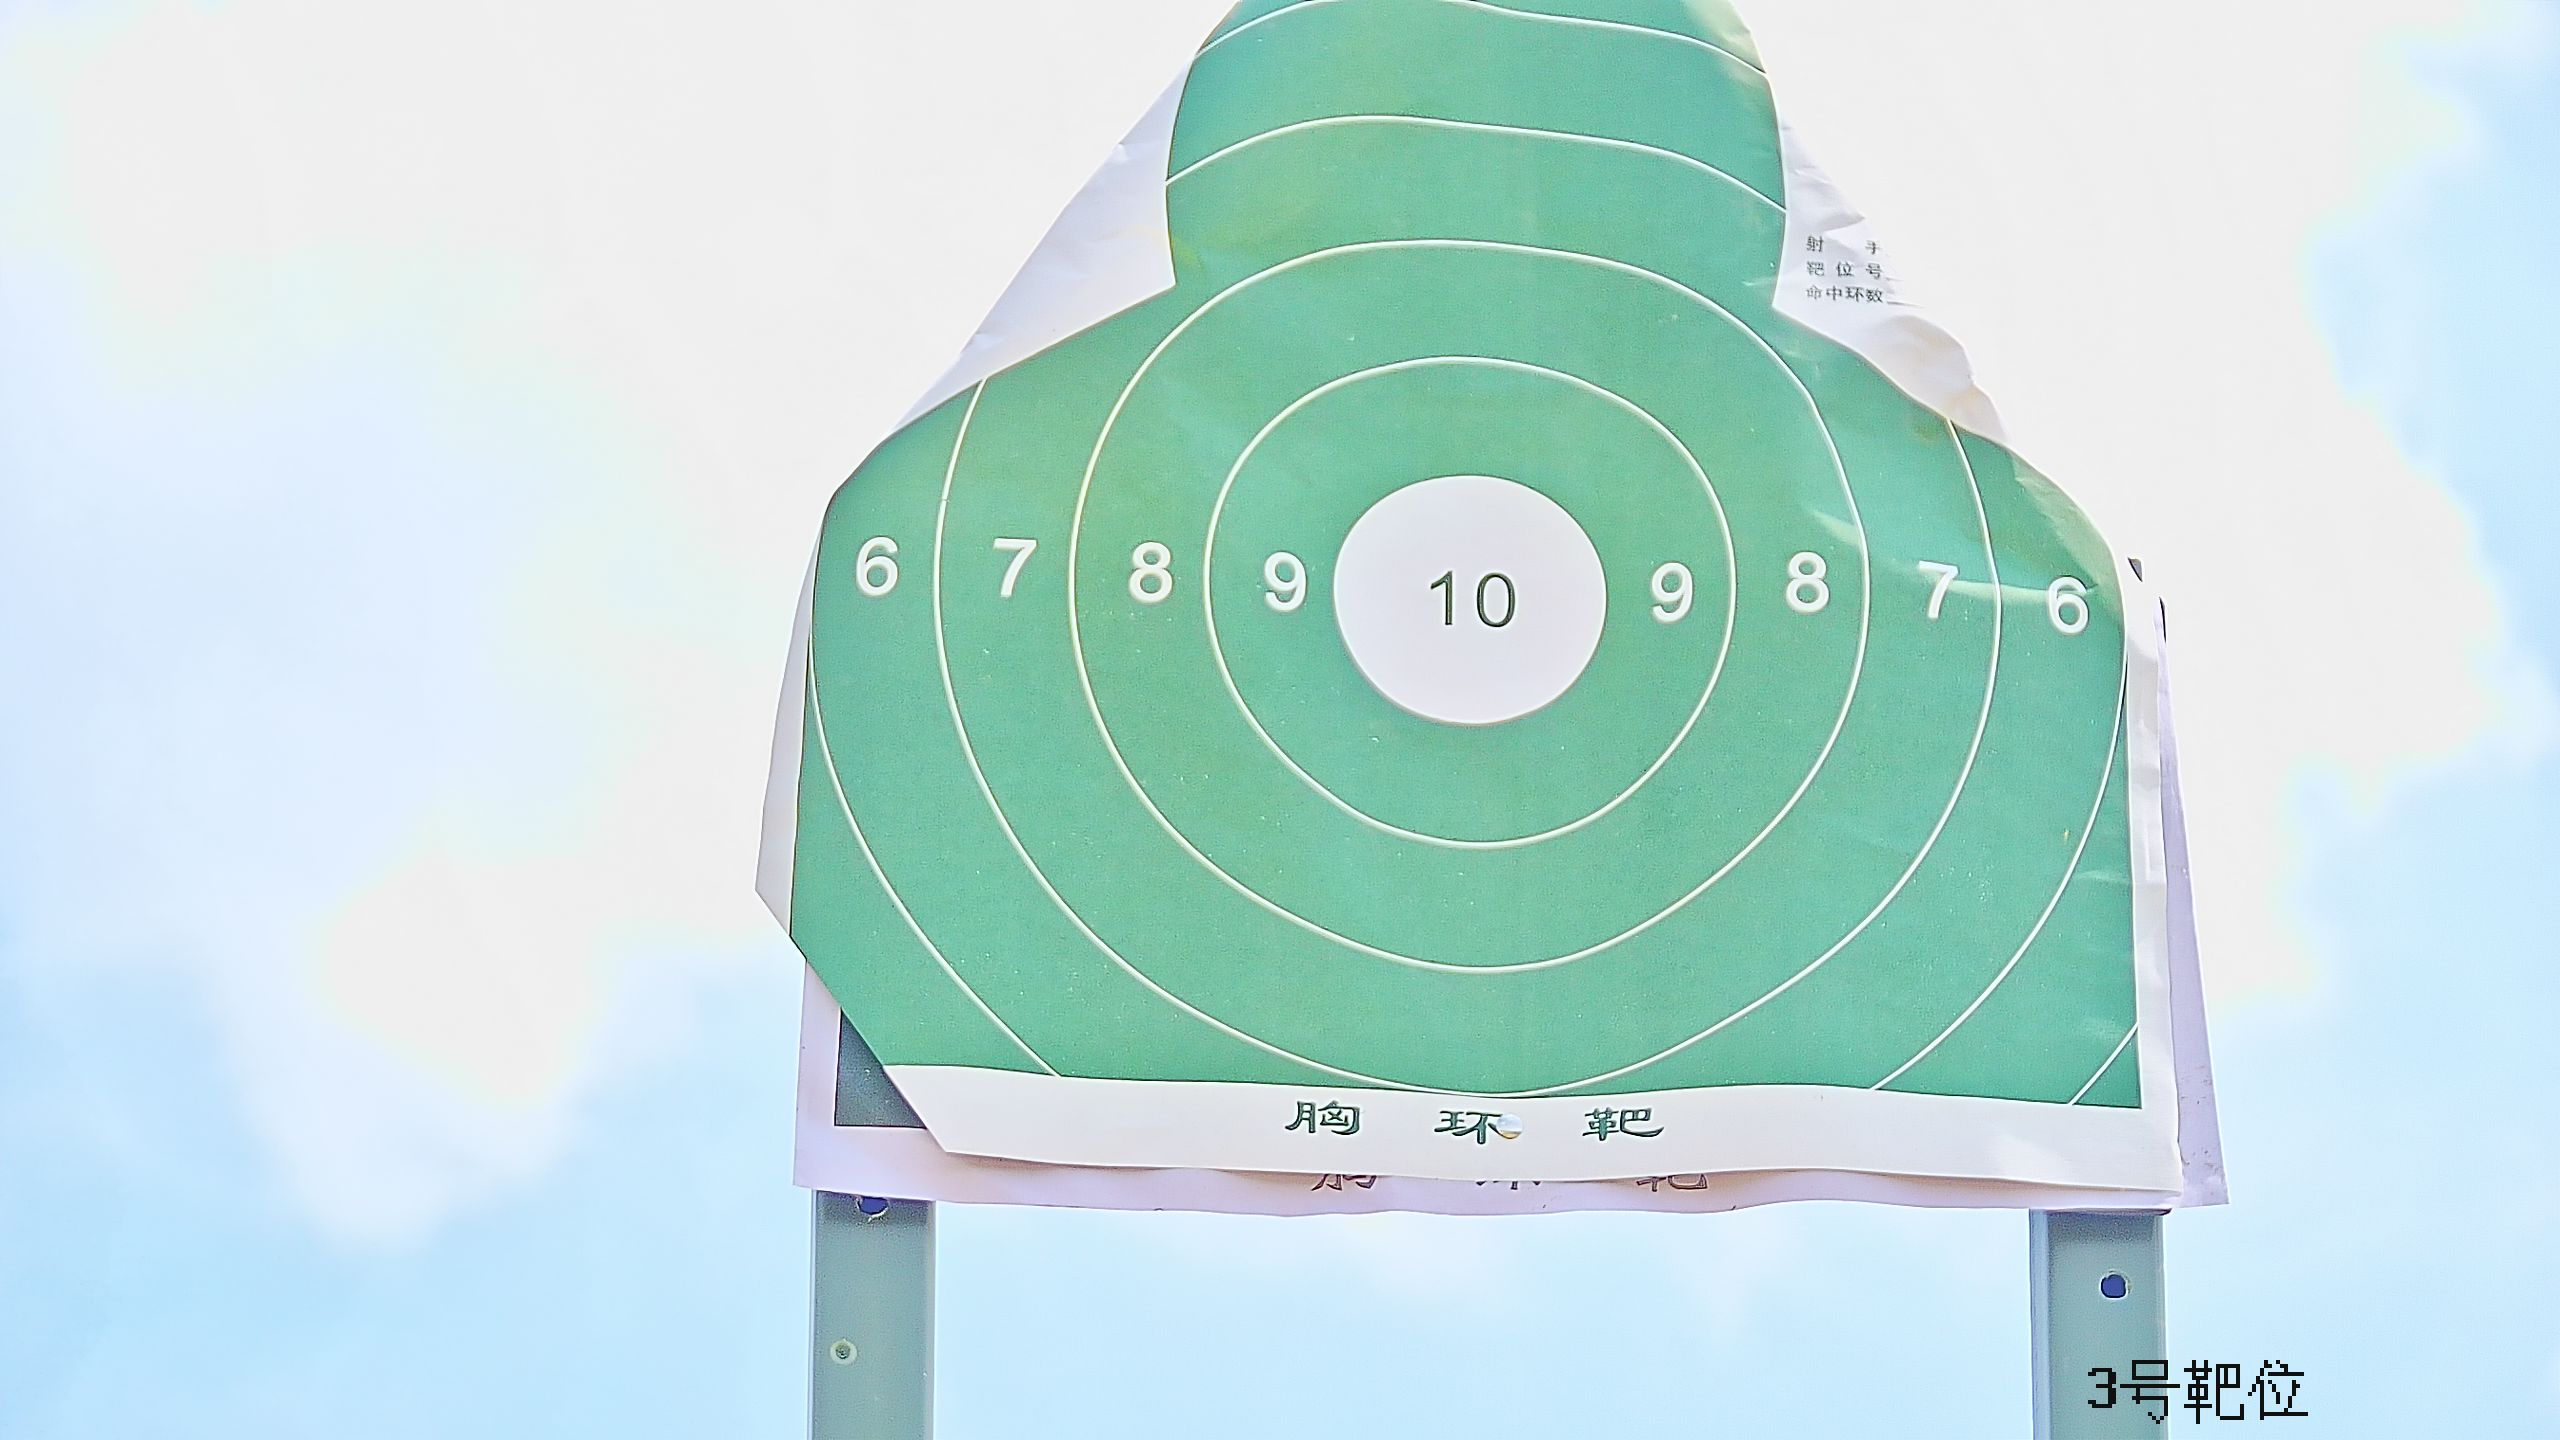kernel: (1461, 600, 1468, 605)
target: (793, 2, 2142, 1122)
ten: (1329, 468, 1605, 726)
